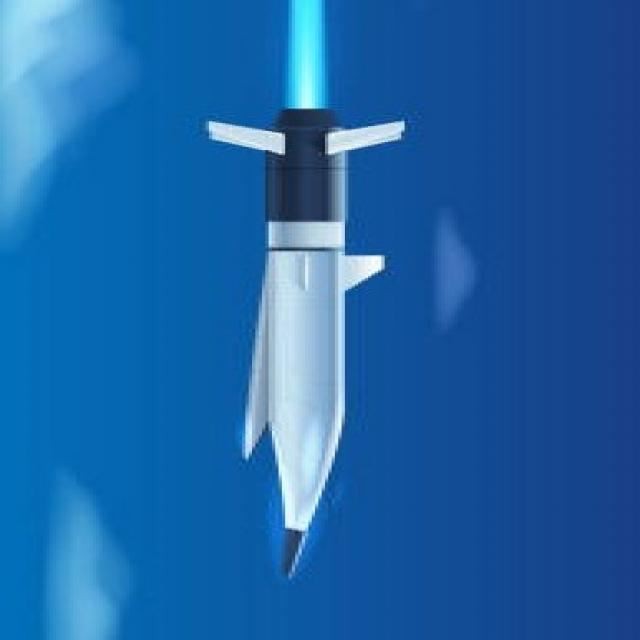missile: (256, 0, 360, 566)
